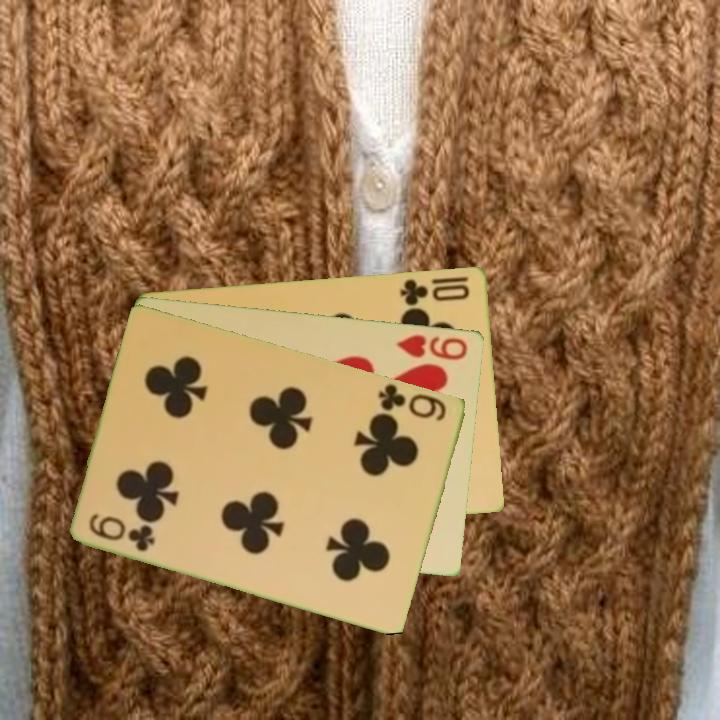10c: (397, 275, 472, 308)
6c: (375, 380, 450, 424), (85, 509, 158, 554)
9h: (394, 331, 471, 363)
